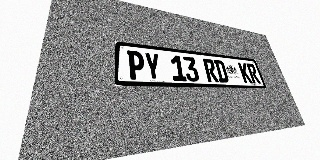1: (169, 55, 187, 81)
3: (183, 56, 200, 82)
D: (213, 60, 229, 83)
K: (238, 62, 253, 83)
P: (127, 50, 145, 80)
R: (202, 58, 219, 82), (246, 63, 261, 84)
Y: (144, 52, 162, 80)
